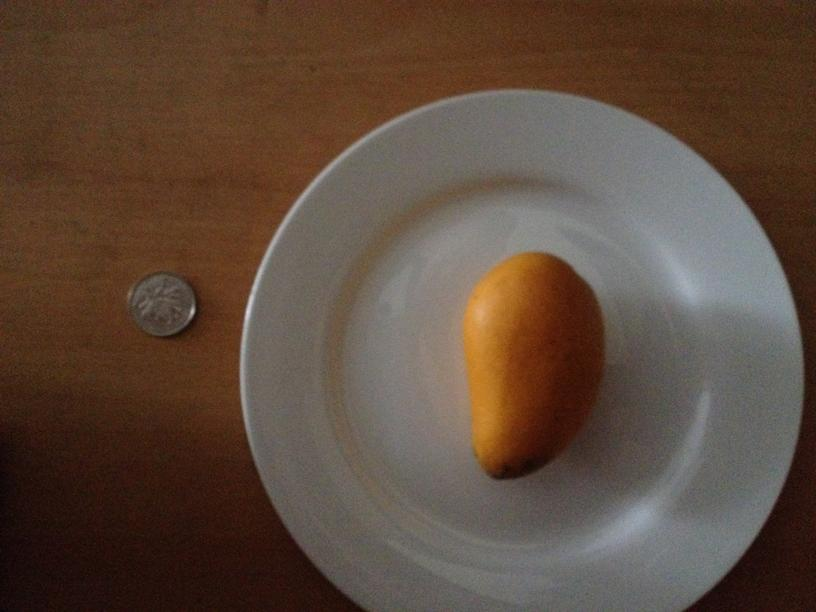coin: (127, 271, 195, 337)
mango: (462, 251, 605, 483)
